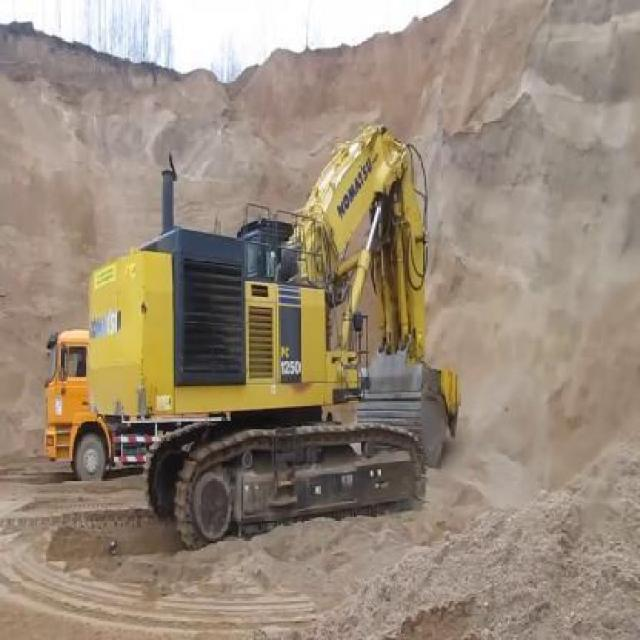Excavator: (85, 117, 461, 551)
